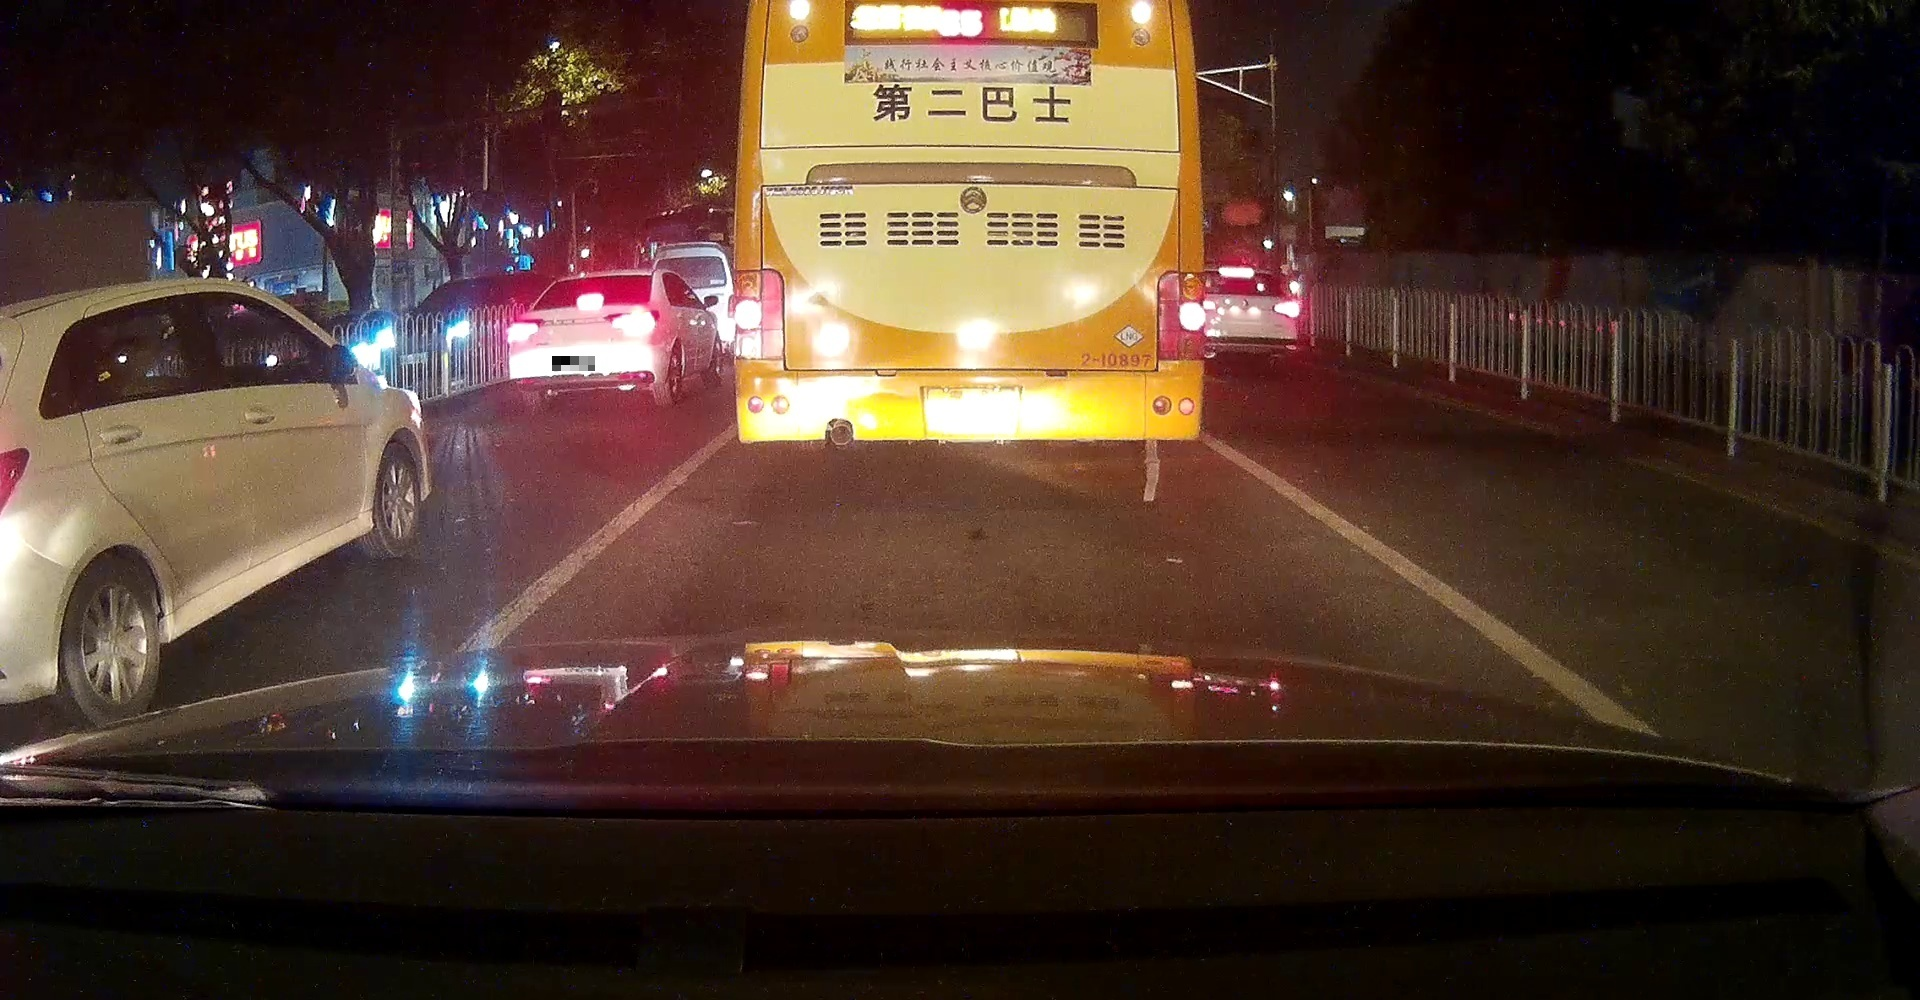L_light: (505, 317, 546, 346), (1199, 299, 1217, 312)
R_light: (604, 307, 662, 338), (1271, 299, 1302, 320)
T_light: (573, 291, 604, 310), (1217, 265, 1255, 279)
night-brake: (504, 269, 678, 409), (1195, 265, 1302, 368)
plate_1: (552, 357, 596, 371)
